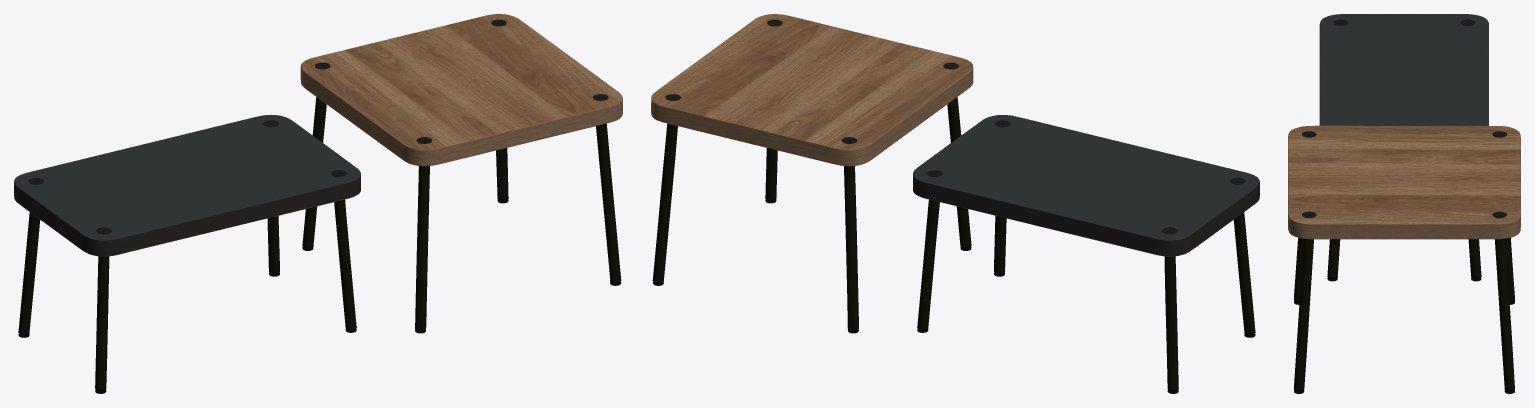
The model's file is sonhult_stoliki_2_szt_30578556.glb.
The picture shows the model from 3 angles, left to right: view 1: azimuth 30°, elevation 25°; view 2: azimuth 150°, elevation 25°; view 3: azimuth 270°, elevation 25°; orthographic projection. The views are drawn at different scales.
Parts seen in each view (by area): view 1: sonhult_stoliki_2_szt_30578556; view 2: sonhult_stoliki_2_szt_30578556; view 3: sonhult_stoliki_2_szt_30578556.
Part boxes in pixels (x1,y1,x2,y2): sonhult_stoliki_2_szt_30578556: [14, 14, 622, 393]; sonhult_stoliki_2_szt_30578556: [651, 14, 1259, 393]; sonhult_stoliki_2_szt_30578556: [1288, 14, 1520, 393].
Size of the model in its own units: 1.33 by 0.4512 by 0.5503.
Materials: 2 (2 with a texture image).
